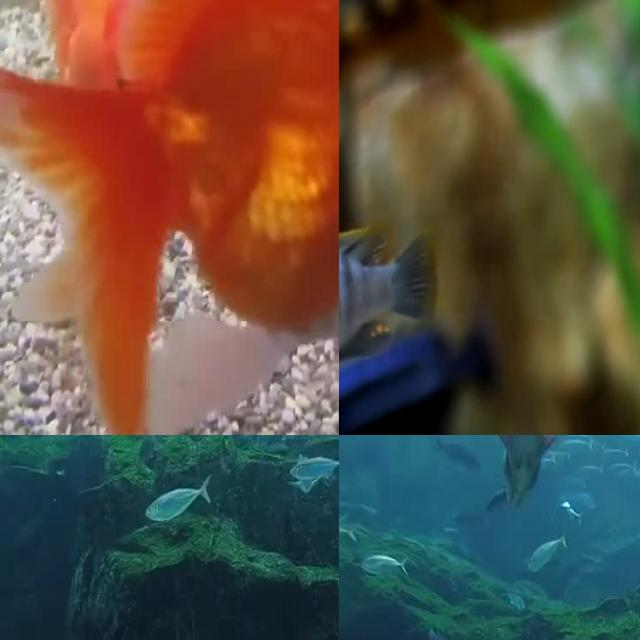fish: (0, 0, 339, 435), (339, 0, 640, 108)
